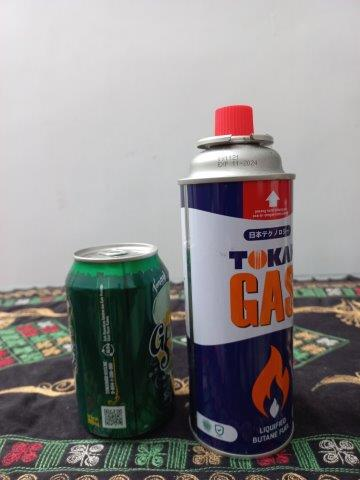kaleng: (177, 105, 297, 455), (64, 242, 173, 442)
